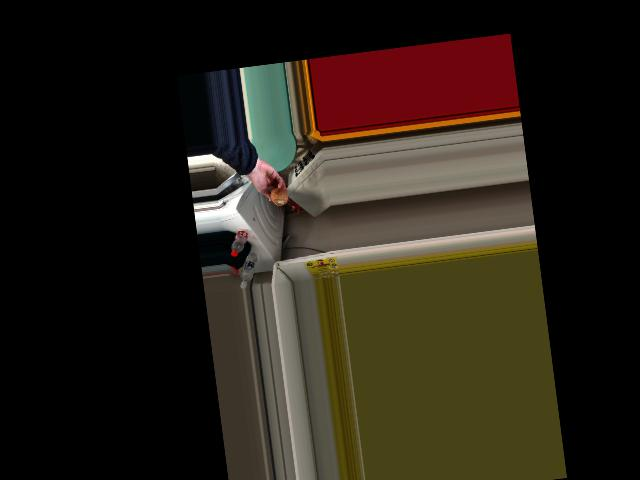sweet_potato: (269, 184, 287, 206)
